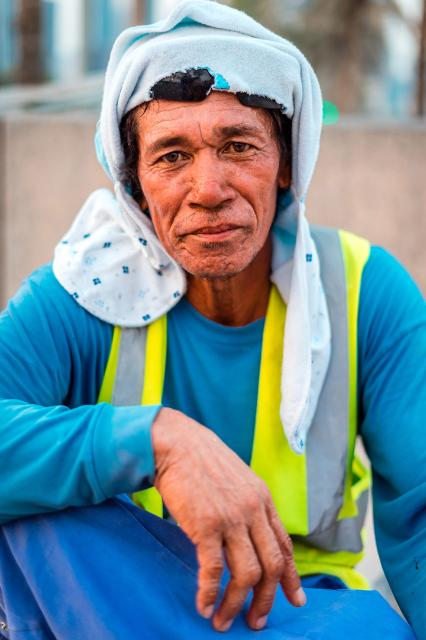chin: (200, 246, 229, 262), (179, 240, 193, 262)
crows_feet: (254, 140, 276, 162), (142, 156, 160, 174)
forehead: (158, 99, 182, 119), (208, 92, 226, 110)
frown_line: (193, 124, 215, 158)
gummy_smile: (236, 184, 264, 222), (166, 195, 184, 233)
